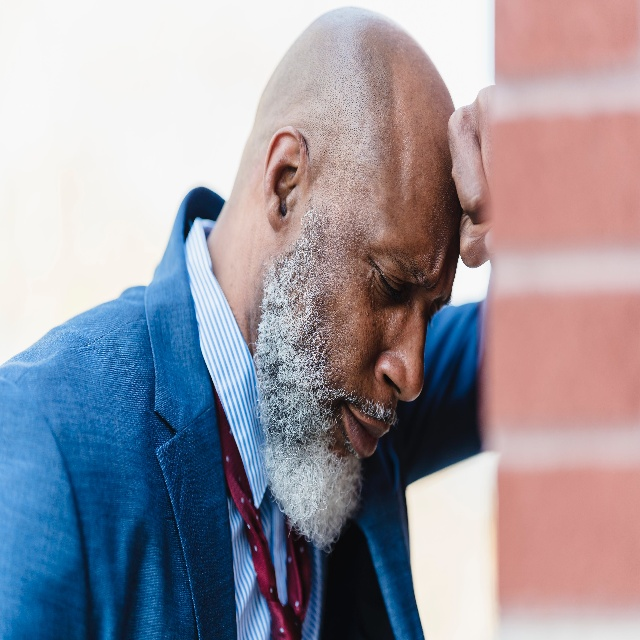Sin_guantes: (446, 83, 499, 268)
